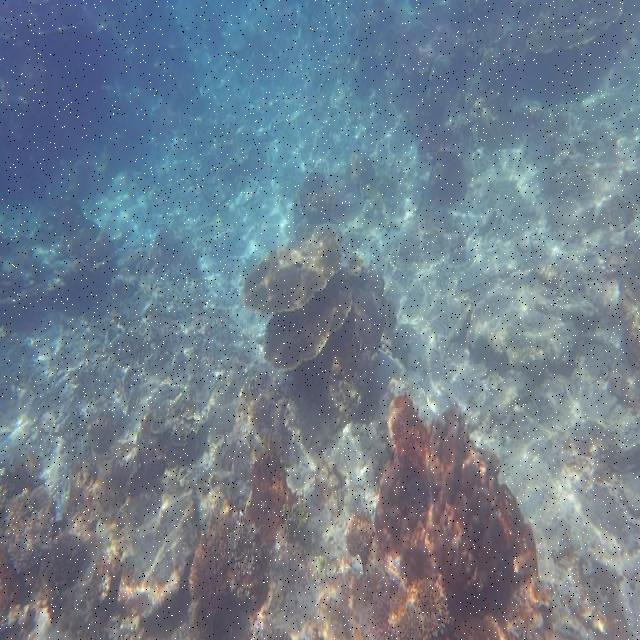reefs: (295, 393, 566, 638), (245, 222, 342, 313), (264, 277, 352, 372)
